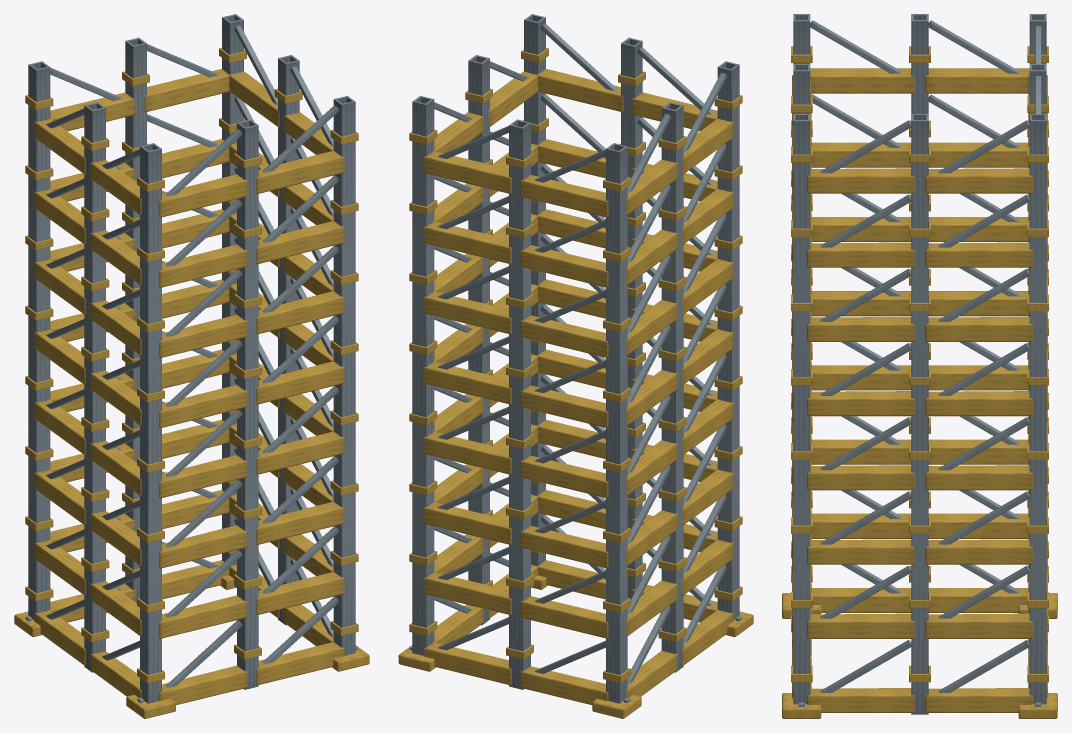
3 renders of one model, left to right at view 1: azimuth 30°, elevation 25°; view 2: azimuth 150°, elevation 25°; view 3: azimuth 270°, elevation 25°, orthographic. The views are drawn at different scales.
Parts seen in each view (by area): view 1: Tier 0 side 0 post 0, Tier 0 side 1 post 0, Tier 0 side 0 post 1, Tier 0 side 3 post 0, Tier 0 side 3 post 1, Tier 0 side 1 post 1, Tier 0 side 2 post 1, Tier 0 side 2 post 0, Tier 0 bay 0-4-1 service deck, Tier 0 bay 0-3-1 service deck, Tier 0 bay 0-7-1 service deck, Tier 0 bay 0-6-1 service deck (+72 smaller); view 2: Tier 0 side 3 post 0, Tier 0 side 2 post 0, Tier 0 side 2 post 1, Tier 0 side 0 post 0, Tier 0 side 3 post 1, Tier 0 side 1 post 1, Tier 0 side 0 post 1, Tier 0 side 1 post 0, Tier 0 bay 2-4-1 service deck, Tier 0 bay 2-5-0 service deck, Tier 0 bay 2-2-1 service deck, Tier 0 bay 2-3-0 service deck (+73 smaller); view 3: Tier 0 side 1 post 0, Tier 0 side 2 post 0, Tier 0 side 1 post 1, Tier 0 bay 1-4-0 service deck, Tier 0 bay 1-4-1 service deck, Tier 0 bay 1-3-0 service deck, Tier 0 bay 1-3-1 service deck, Tier 0 bay 1-7-1 service deck, Tier 0 bay 1-7-0 service deck, Tier 0 bay 1-2-1 service deck, Tier 0 bay 1-2-0 service deck, Tier 0 bay 1-6-1 service deck (+50 smaller).
Boxes of the visible parts, x1,y1,x2,y2 form: Tier 0 side 0 post 0: (140, 143, 161, 703); Tier 0 side 1 post 0: (333, 96, 355, 655); Tier 0 side 0 post 1: (237, 119, 258, 689); Tier 0 side 3 post 0: (28, 61, 50, 619); Tier 0 side 3 post 1: (84, 102, 105, 672); Tier 0 side 1 post 1: (278, 55, 299, 625); Tier 0 side 2 post 1: (125, 37, 146, 602); Tier 0 side 2 post 0: (222, 14, 243, 565); Tier 0 bay 0-4-1 service deck: (256, 361, 344, 404); Tier 0 bay 0-3-1 service deck: (256, 431, 344, 474); Tier 0 bay 0-7-1 service deck: (256, 150, 344, 193); Tier 0 bay 0-6-1 service deck: (256, 221, 344, 264); Tier 0 side 3 post 0: (606, 143, 627, 703); Tier 0 side 2 post 0: (412, 96, 434, 655); Tier 0 side 2 post 1: (509, 119, 530, 689); Tier 0 side 0 post 0: (717, 61, 739, 619); Tier 0 side 3 post 1: (661, 102, 683, 672); Tier 0 side 1 post 1: (468, 55, 489, 625); Tier 0 side 0 post 1: (621, 37, 642, 598); Tier 0 side 1 post 0: (524, 14, 545, 565); Tier 0 bay 2-4-1 service deck: (520, 385, 608, 428); Tier 0 bay 2-5-0 service deck: (423, 292, 511, 334); Tier 0 bay 2-2-1 service deck: (520, 526, 608, 568); Tier 0 bay 2-3-0 service deck: (423, 432, 511, 474); Tier 0 side 1 post 0: (793, 114, 810, 704); Tier 0 side 2 post 0: (1029, 114, 1046, 704); Tier 0 side 1 post 1: (911, 114, 928, 714); Tier 0 bay 1-4-0 service deck: (807, 391, 914, 416); Tier 0 bay 1-4-1 service deck: (925, 391, 1032, 416); Tier 0 bay 1-3-0 service deck: (807, 465, 914, 490); Tier 0 bay 1-3-1 service deck: (925, 465, 1032, 490); Tier 0 bay 1-7-1 service deck: (925, 168, 1032, 193); Tier 0 bay 1-7-0 service deck: (807, 168, 914, 193); Tier 0 bay 1-2-1 service deck: (925, 539, 1032, 564); Tier 0 bay 1-2-0 service deck: (807, 539, 914, 564); Tier 0 bay 1-6-1 service deck: (925, 242, 1032, 267).
Size of the model in its own units: 1.05 by 2.49 by 1.05.
2 materials, 2 textured.
